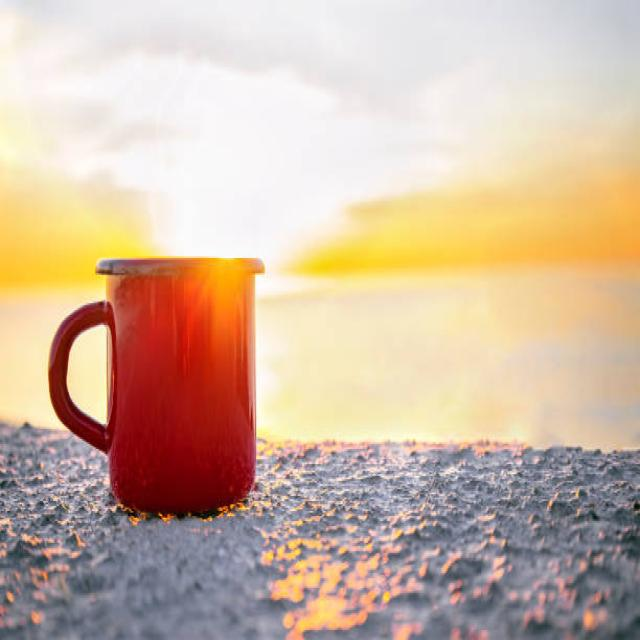Red_cup: (49, 259, 263, 512)
